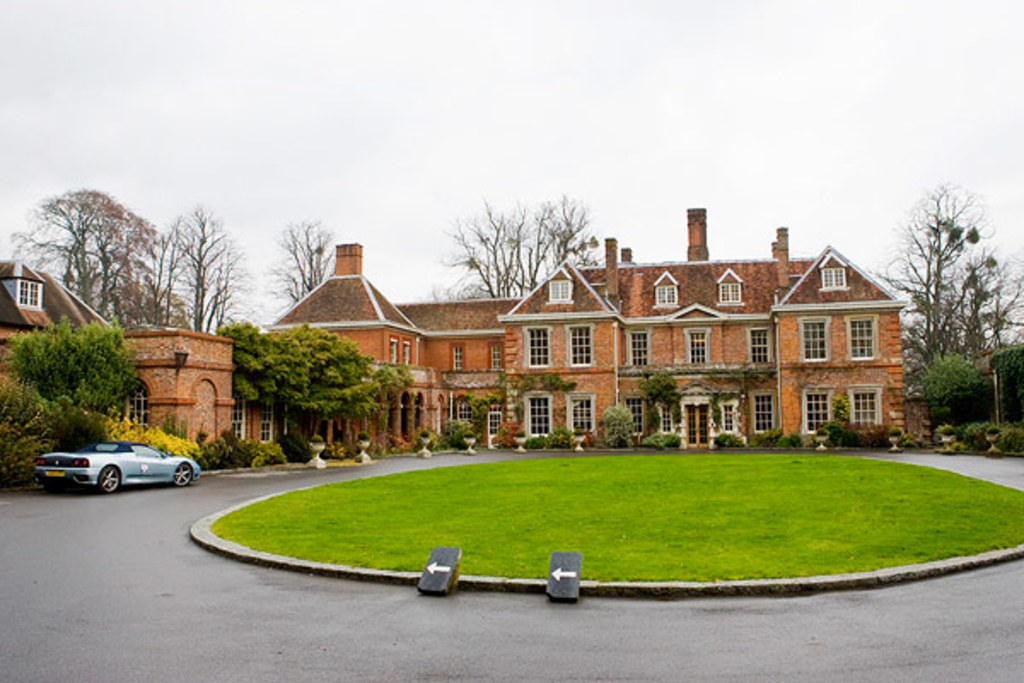Car: (27, 431, 197, 505)
